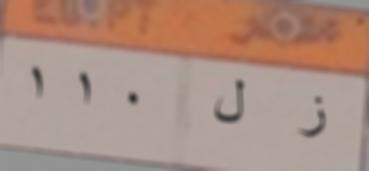0: (122, 88, 143, 114)
1: (26, 55, 48, 106), (78, 66, 95, 112)
laam: (208, 71, 251, 131)
zay: (294, 92, 332, 146)
